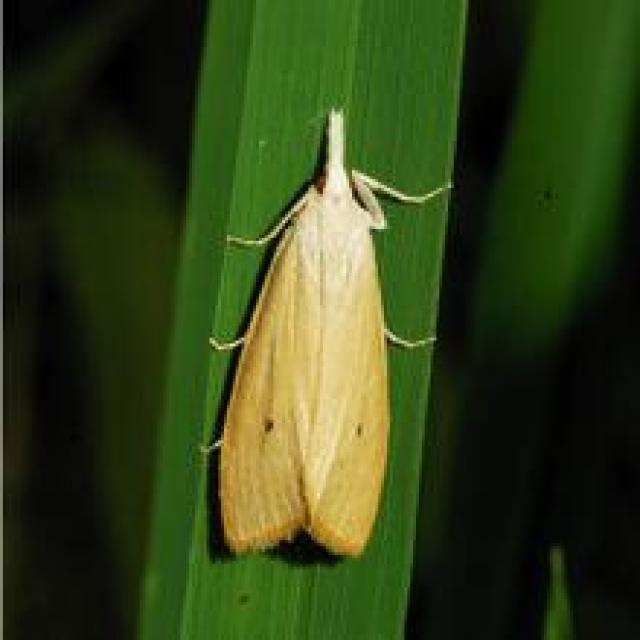yellow-stem-borer: (193, 80, 470, 580)
